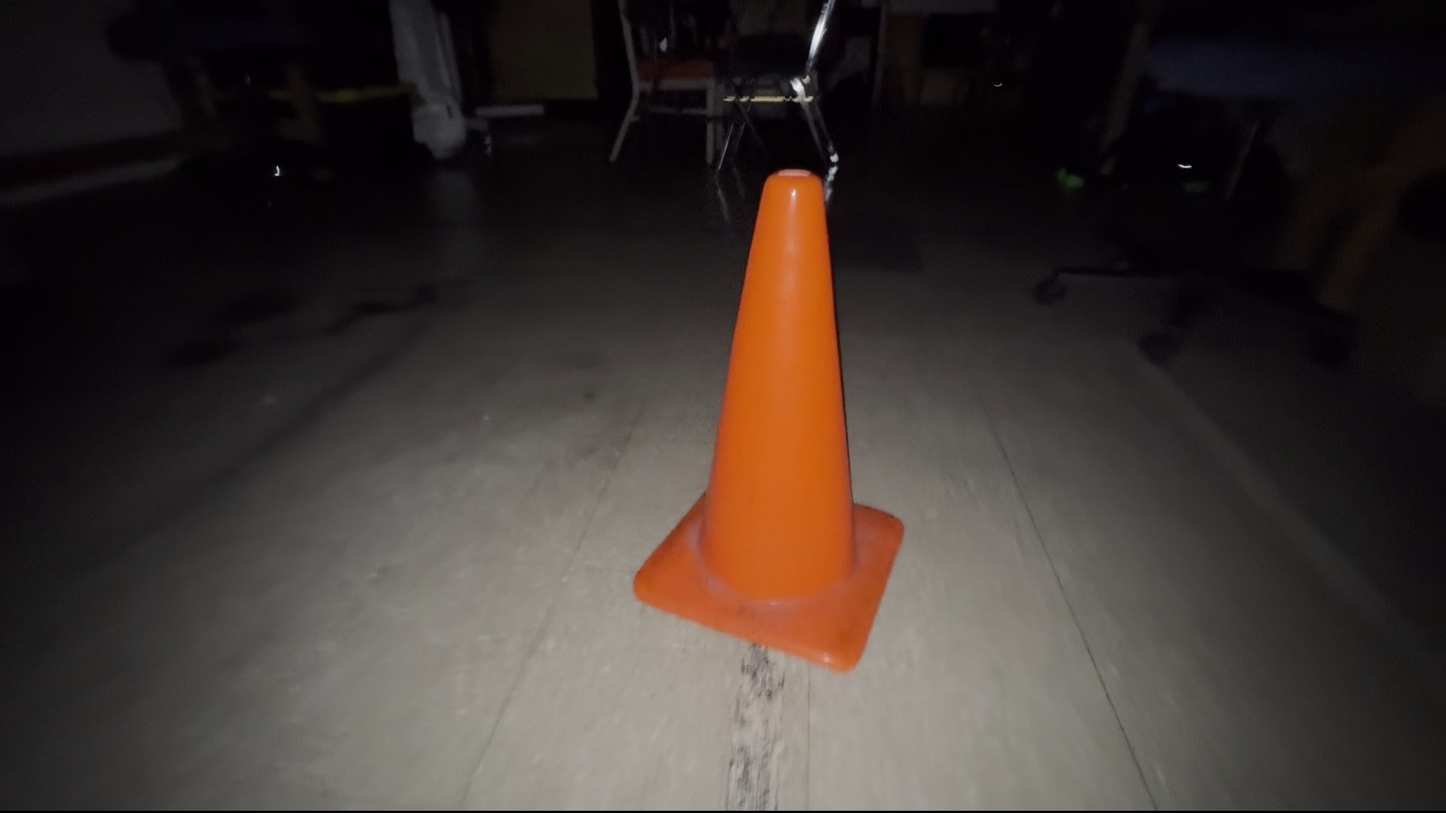traffic_cone: (632, 167, 905, 673)
